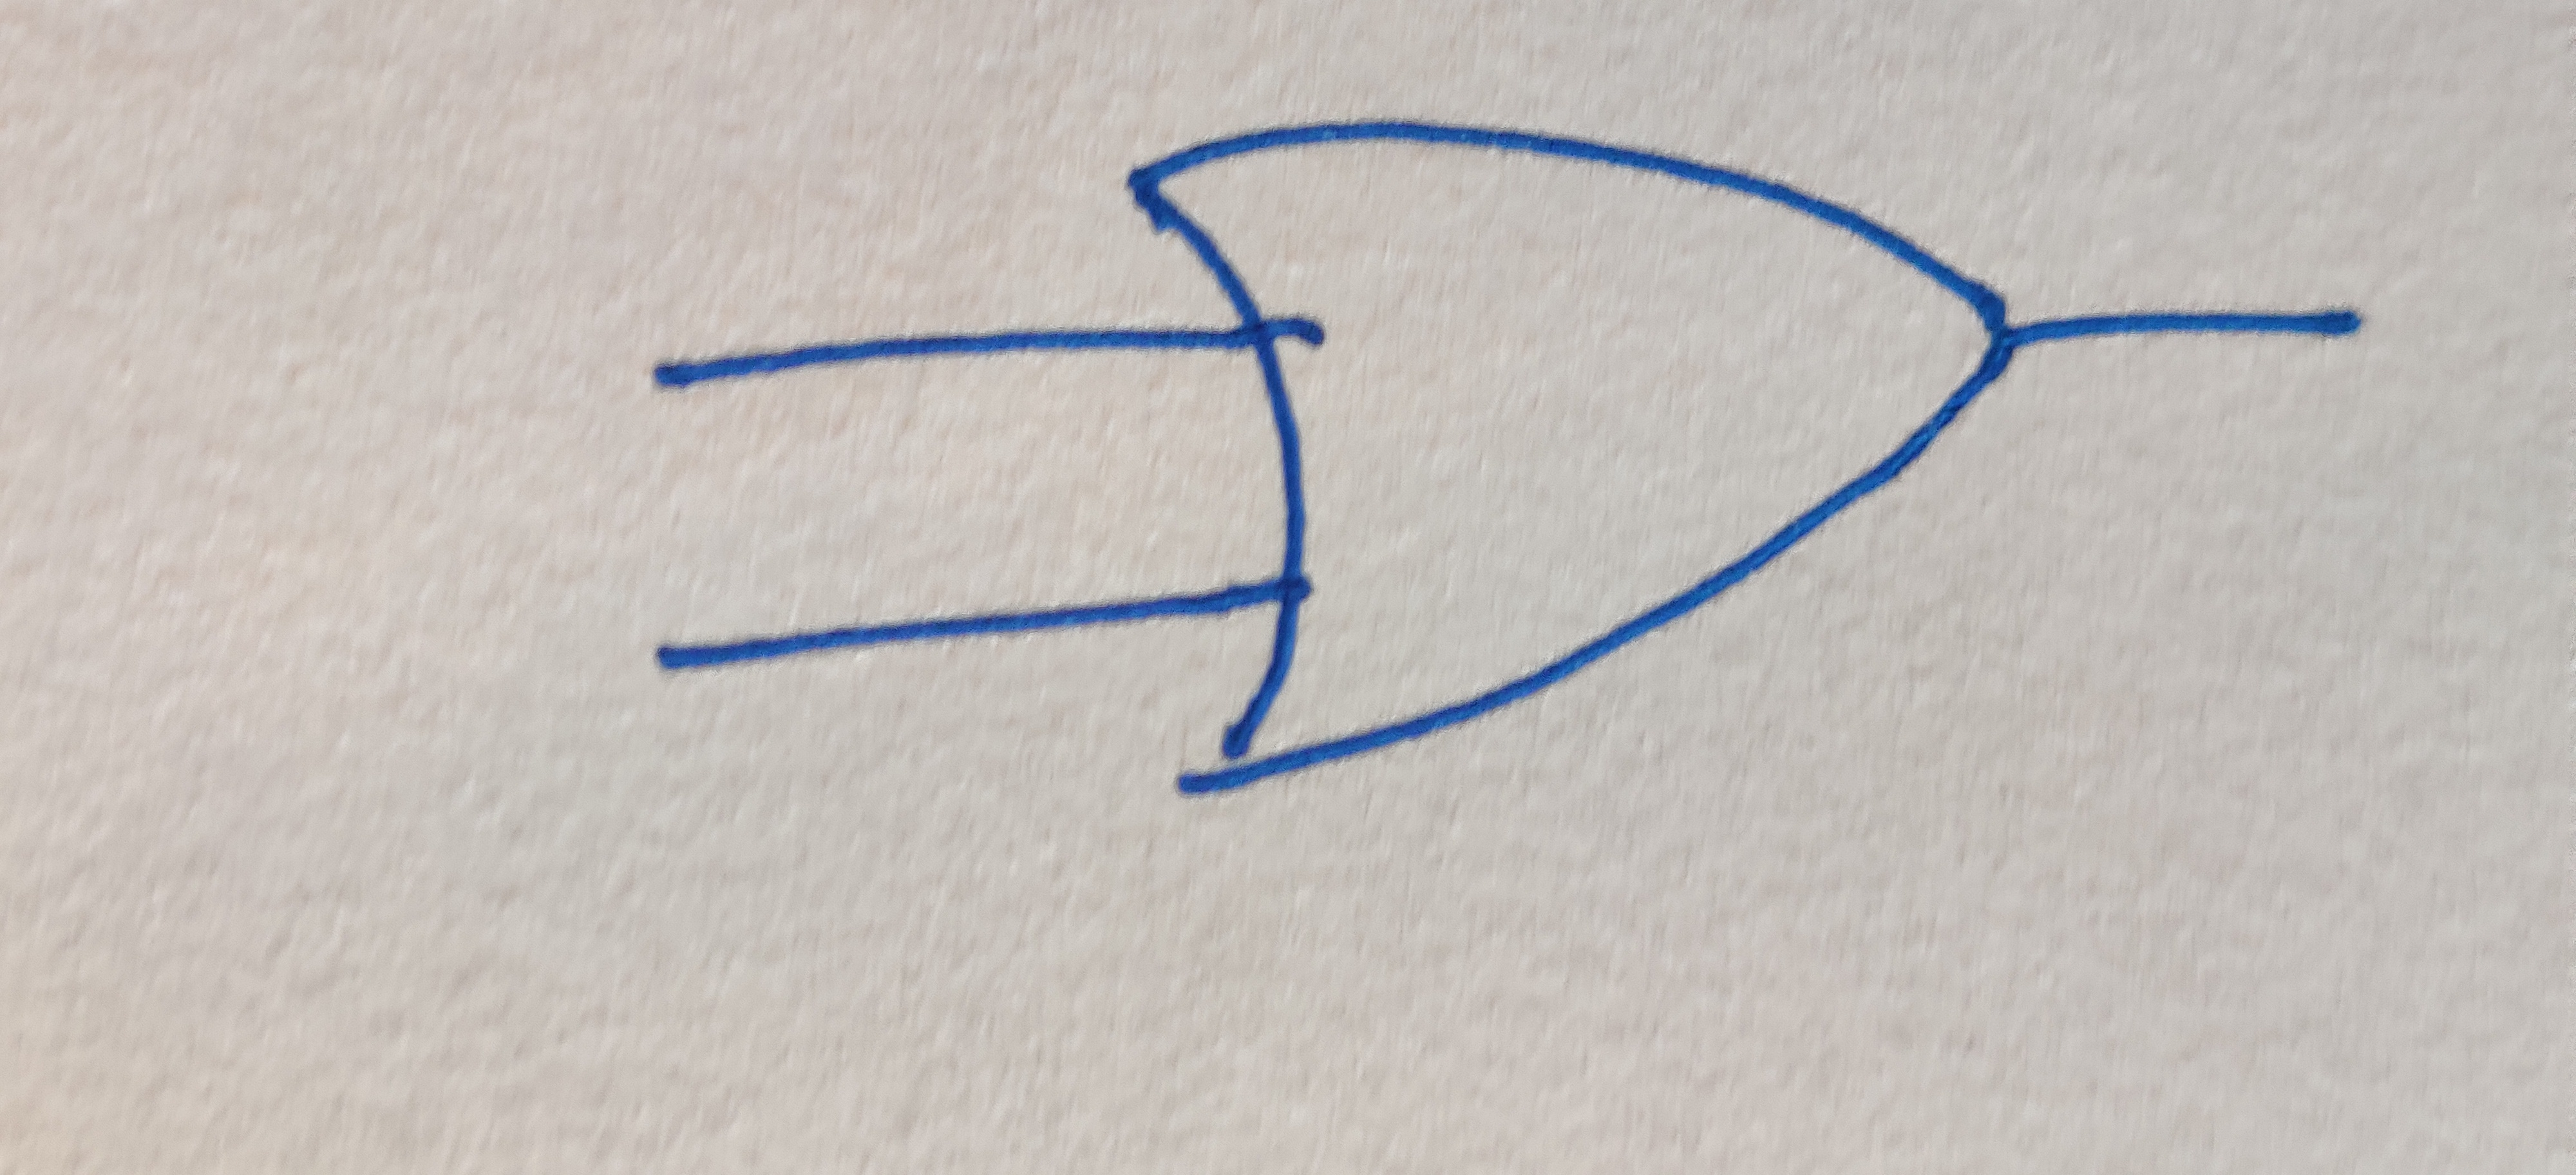or: (1138, 122, 2017, 799)
